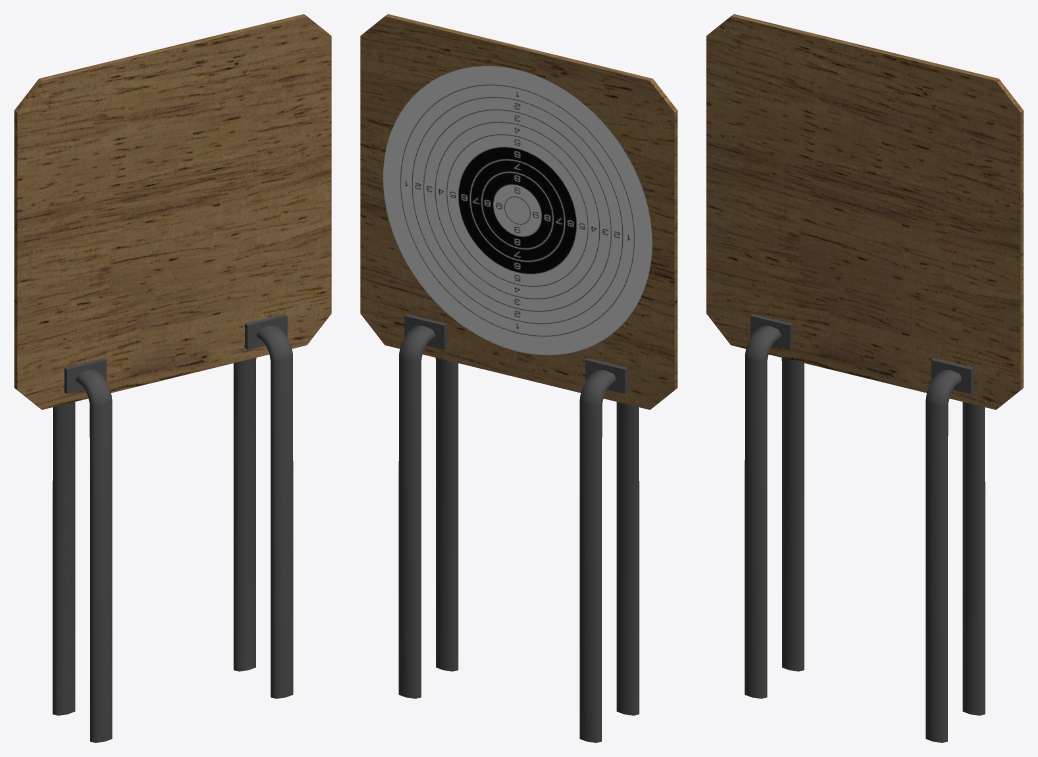
Rendered from tarjet.obj.
3 views of the same model, side by side, from view 1: azimuth 30°, elevation 25°; view 2: azimuth 150°, elevation 25°; view 3: azimuth 330°, elevation 25° (orthographic).
Visible parts, largest first — view 1: LowPoly_002_Cube_000; view 2: LowPoly_002_Cube_000; view 3: LowPoly_002_Cube_000.
Part boxes in pixels (<box>): LowPoly_002_Cube_000: <box>14,14,331,742</box>; LowPoly_002_Cube_000: <box>360,14,677,742</box>; LowPoly_002_Cube_000: <box>706,14,1023,742</box>.
Bounding box in the file's own units: 35.18 × 70.12 × 8.7.
Materials: 2 (2 with a texture image).
